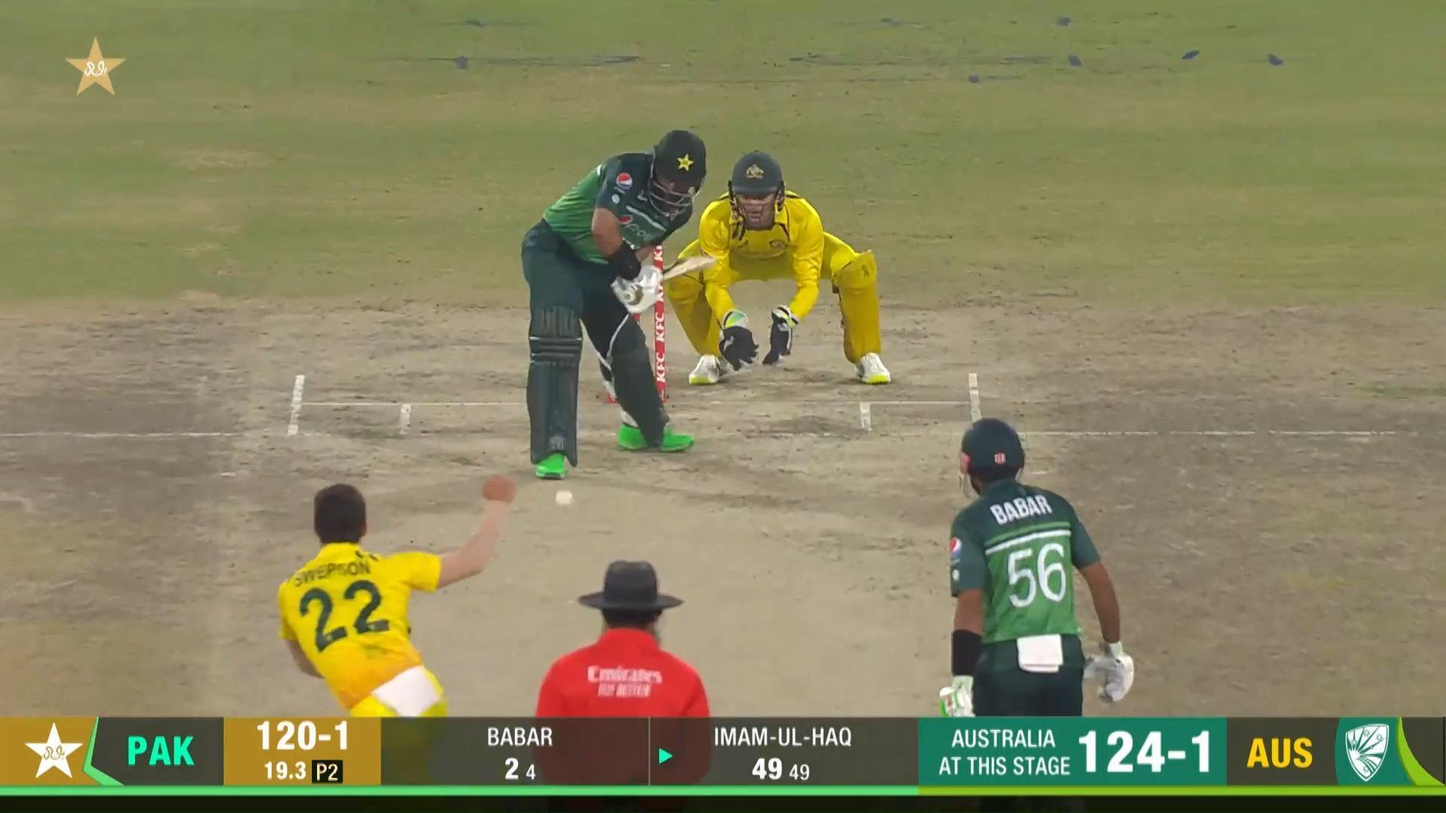BM 1: (521, 128, 720, 480)
BO: (278, 472, 519, 716)
